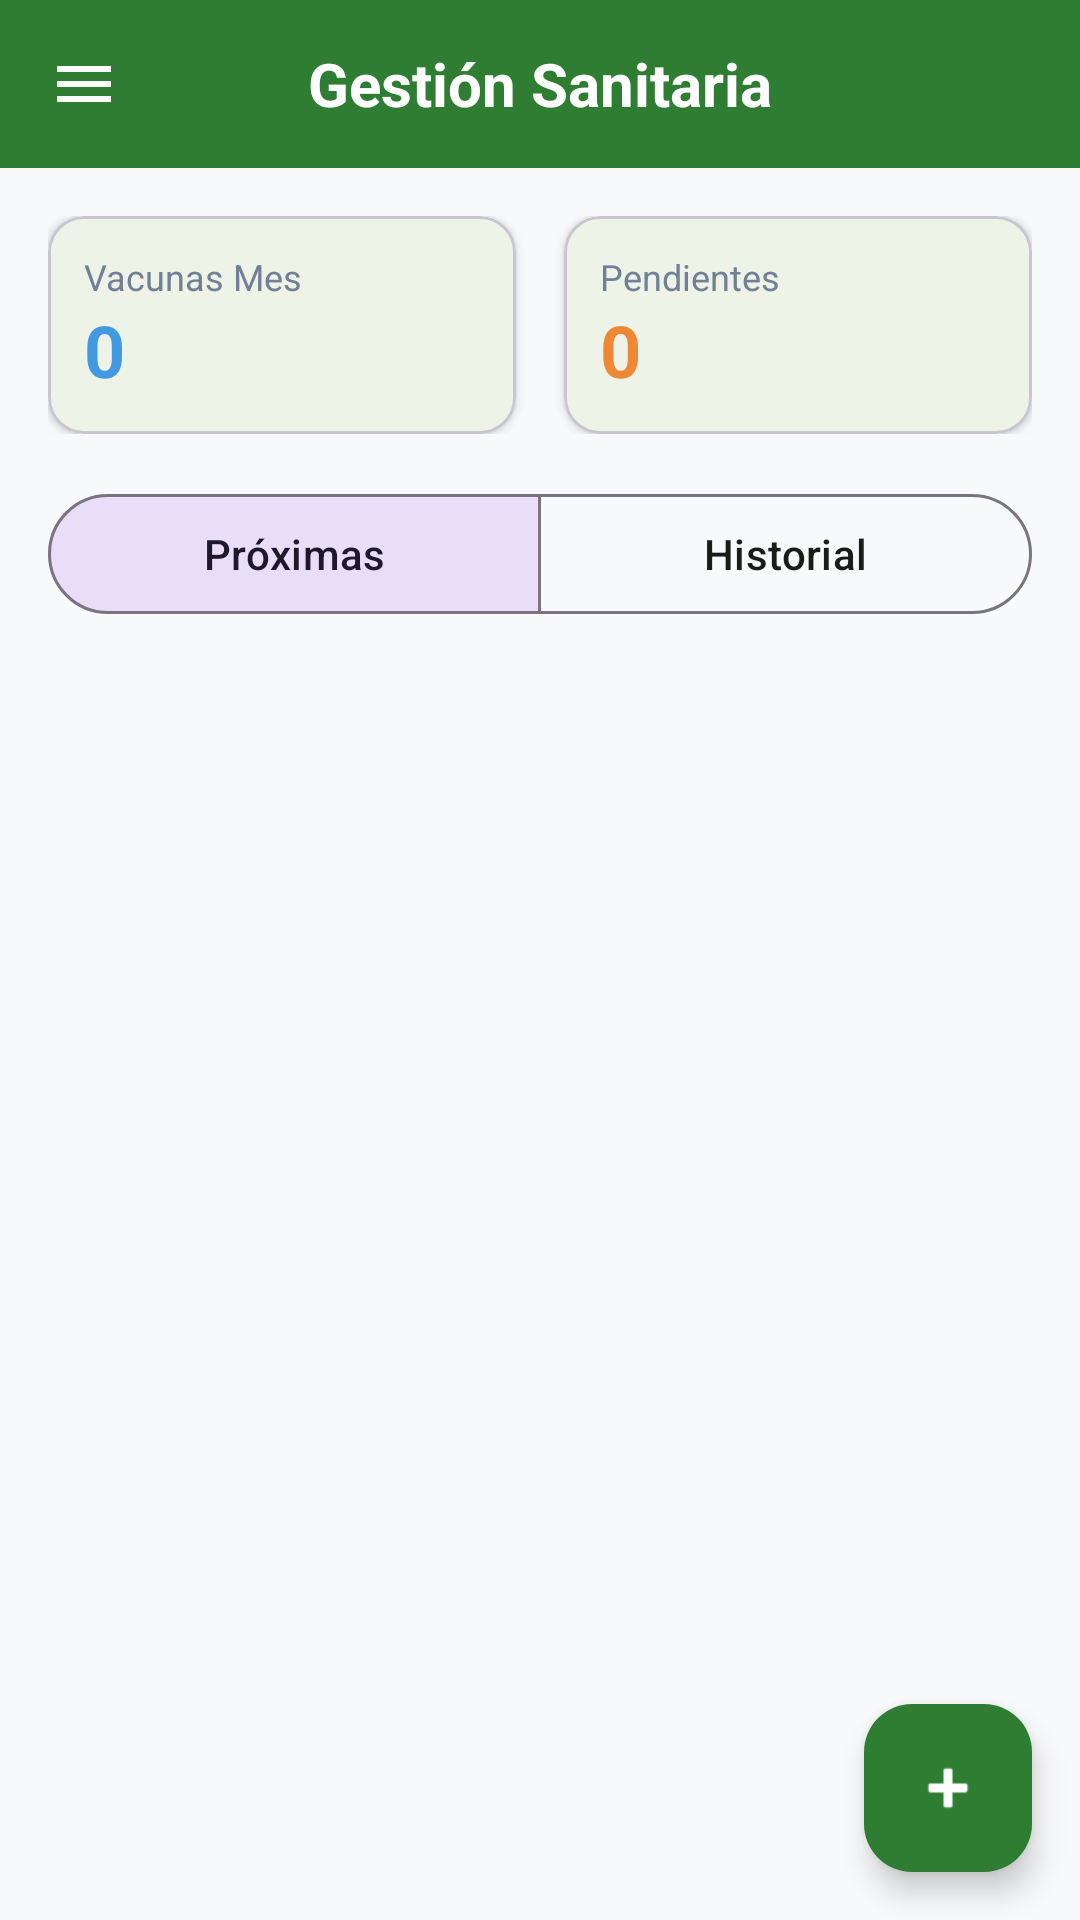

Icons on this 1080w x 1920h Android screen, each with its box as (x1, y1, x2, y2):
add: (864, 1704, 1032, 1872)
Menú: (57, 66, 111, 102)
